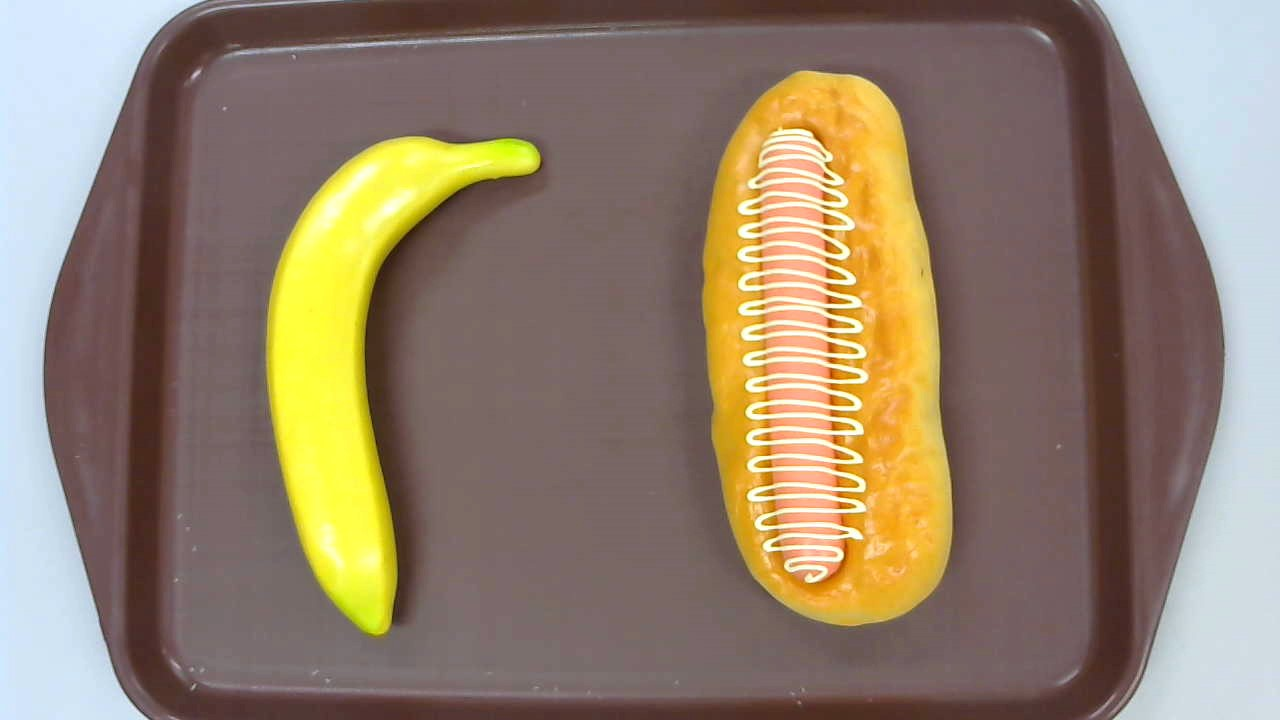banana: (266, 134, 542, 638)
hot dog: (701, 70, 953, 628)
